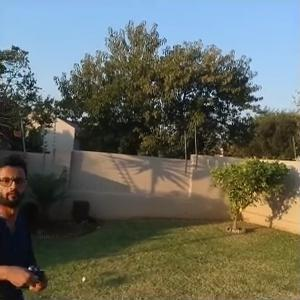follow: (0, 154, 52, 299)
